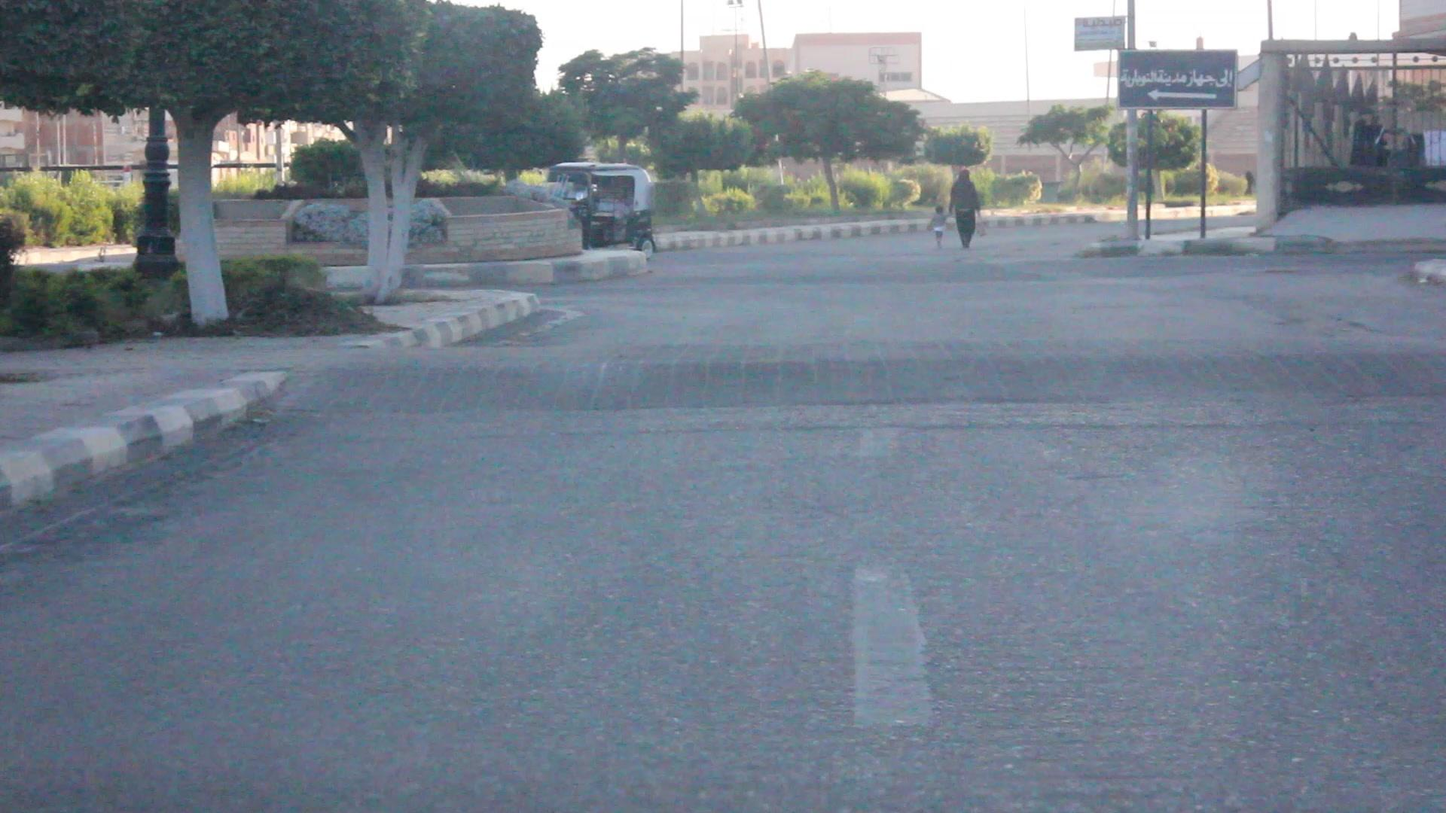Bump: (285, 340, 1445, 414)
